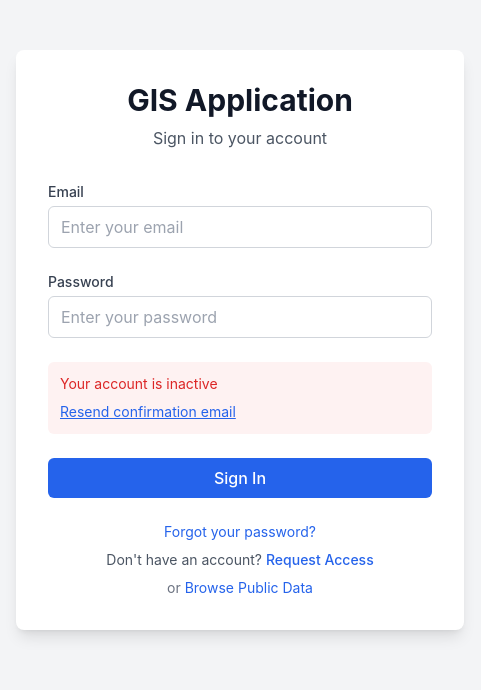
Test: LoginPage › should show resend message after clicking resend
Type "test@example.com" into the field labelled "Email". click: (240, 227)
box: [48,206,432,248]
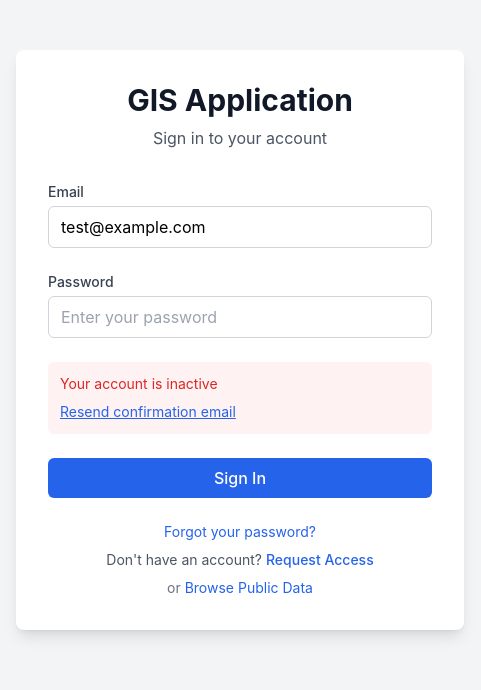
Click the button "Resend confirmation email". click: (148, 412)
box: [60,402,236,422]
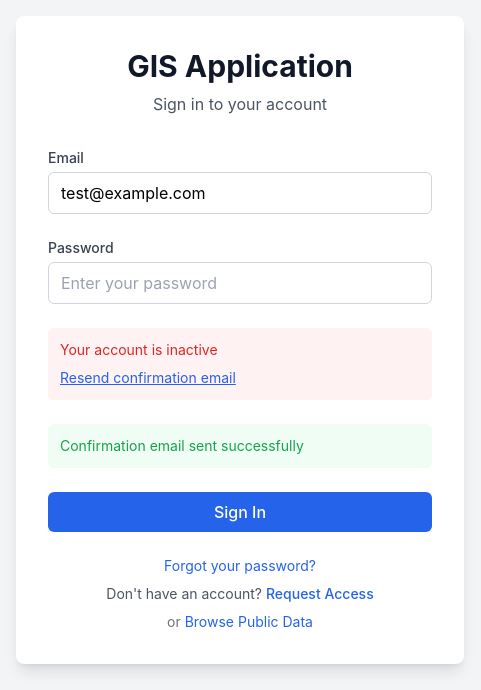
Check: the text "Confirmation email sent successfully" is shown, box [48,424,432,468]
